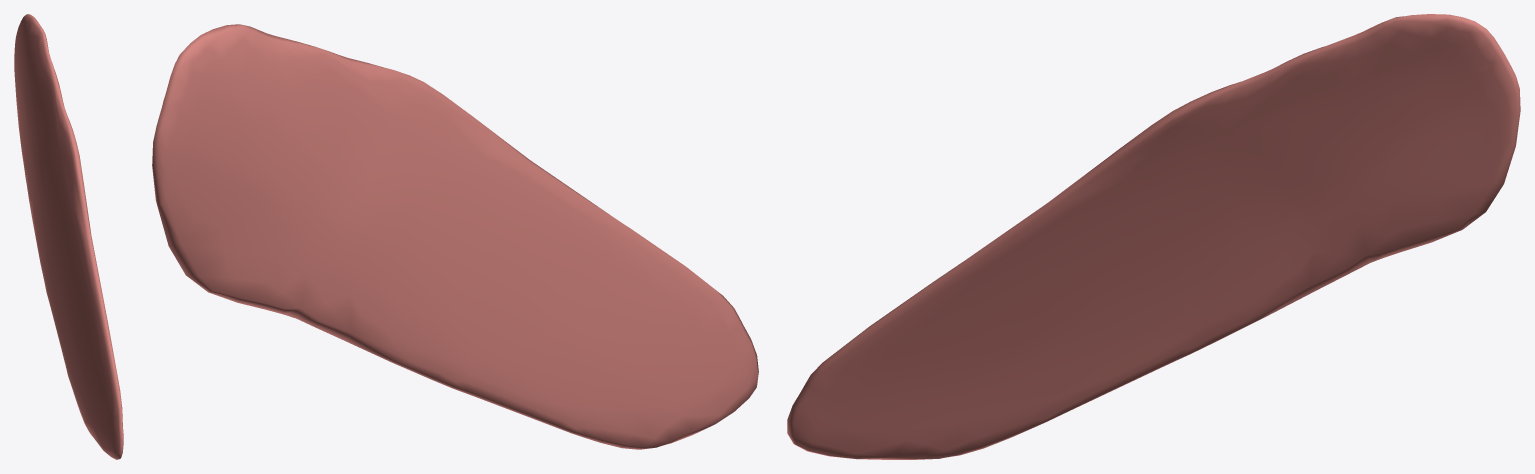
3 renders of one model, left to right at view 1: azimuth 30°, elevation 25°; view 2: azimuth 150°, elevation 25°; view 3: azimuth 270°, elevation 25°, orthographic. The views are drawn at different scales.
Visible parts, largest first — view 1: ZA_a845a32af31ab185; view 2: ZA_a845a32af31ab185; view 3: ZA_a845a32af31ab185.
Boxes of the visible parts, <box> form: ZA_a845a32af31ab185: <box>14,14,123,459</box>; ZA_a845a32af31ab185: <box>152,24,758,449</box>; ZA_a845a32af31ab185: <box>787,14,1520,459</box>.
Size of the model in its own units: 0.00802 by 0.0219 by 0.0277.
